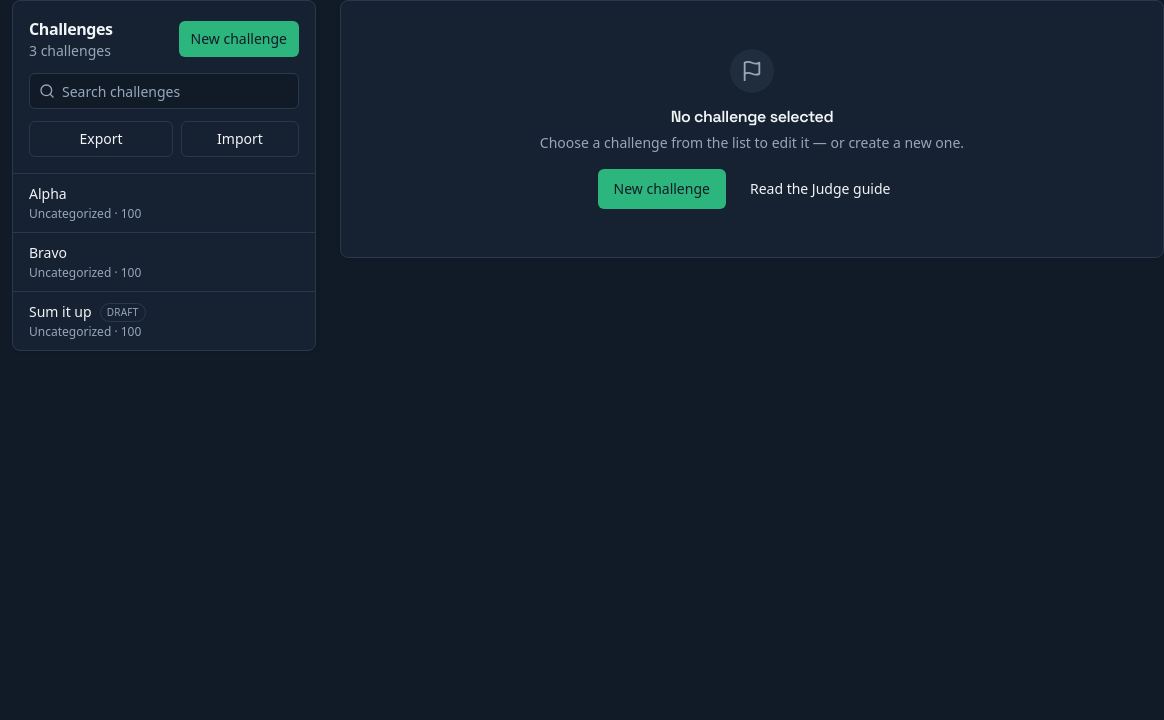
Test case: ChallengeAdmin programming challenges (#447) › explains why Programming can't be picked when the module is off
Click the button "New challenge" in the row of "3 challenges" at [239, 39], box [179,21,299,57]
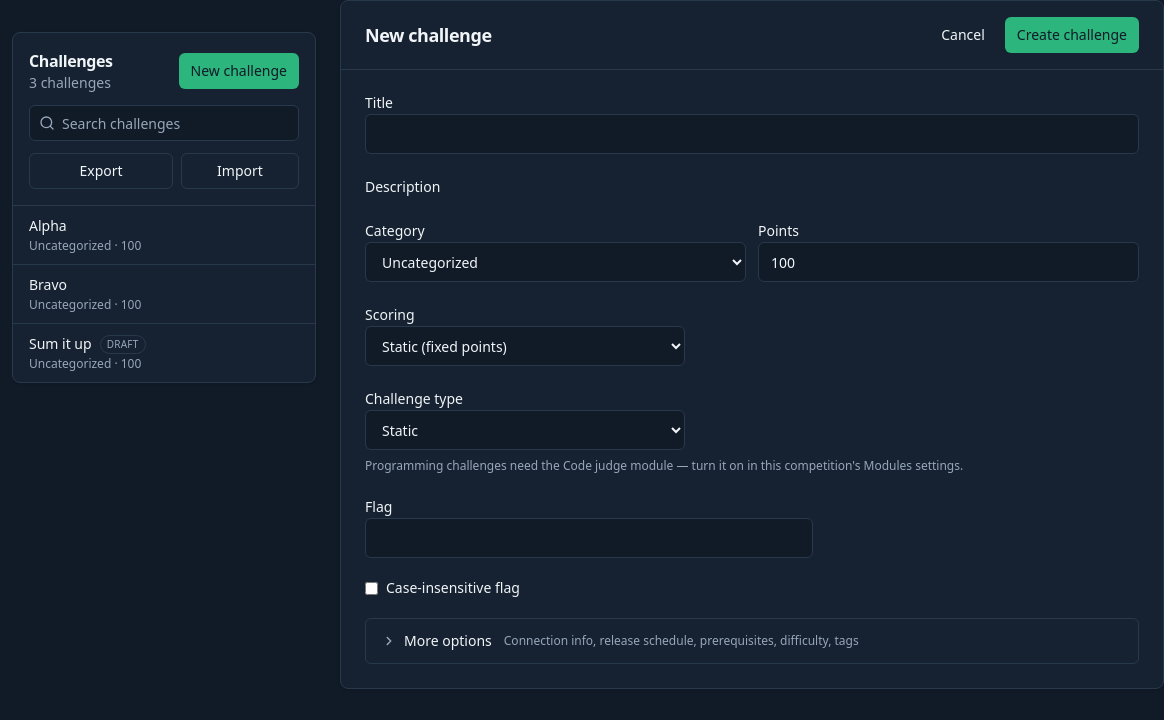
Now the text "need the Code judge module" is shown, box [365,457,963,474]
